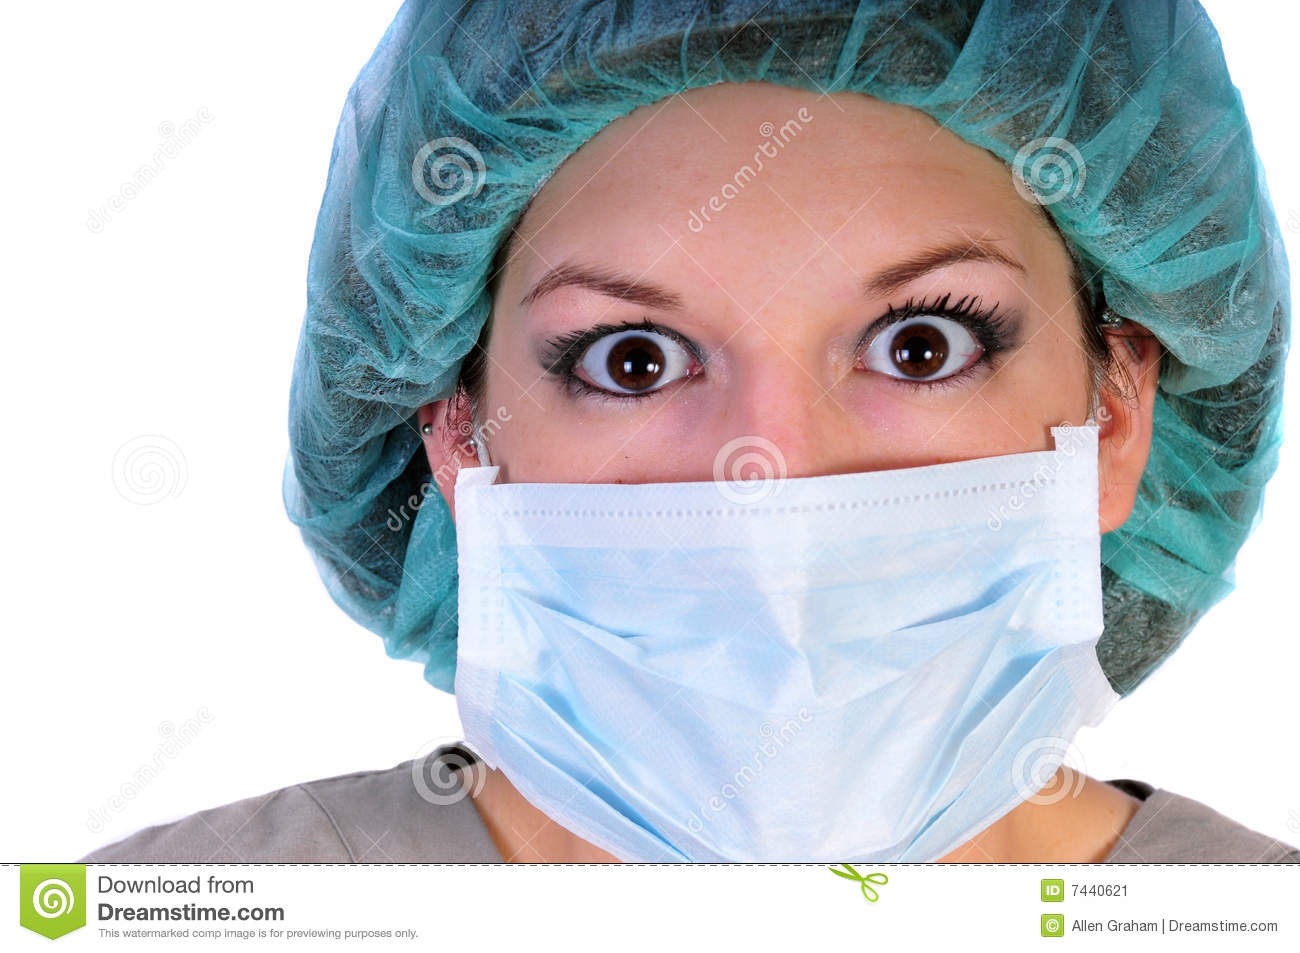mask: (428, 459, 1131, 822)
